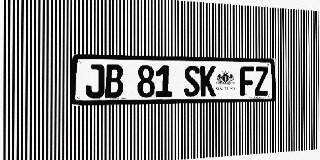1: (155, 65, 172, 97)
8: (137, 65, 155, 97)
B: (105, 64, 123, 98)
F: (240, 66, 254, 96)
J: (85, 64, 104, 98)
K: (200, 66, 216, 96)
S: (184, 65, 200, 97)
Z: (255, 66, 268, 96)
